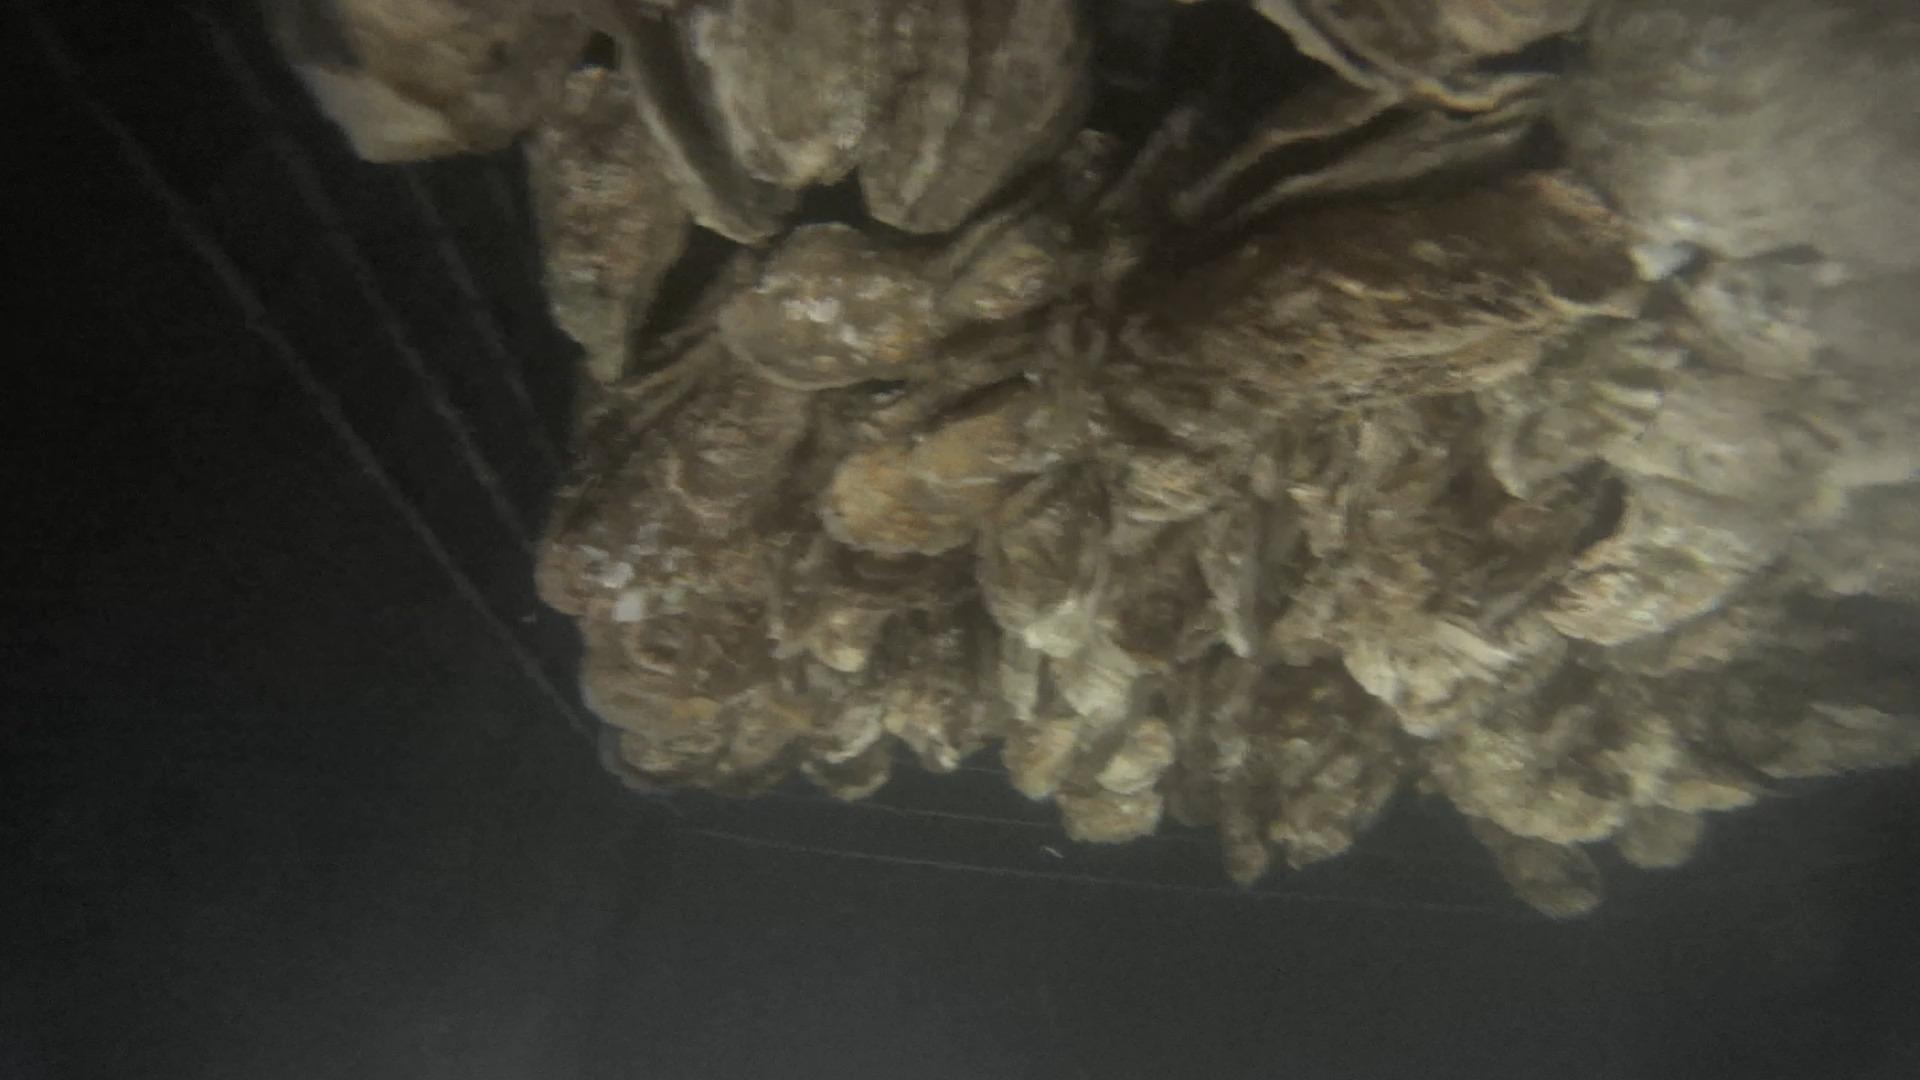3: (1170, 74, 1547, 231), (580, 0, 796, 241), (1259, 0, 1593, 109), (1451, 462, 1625, 626), (977, 463, 1108, 658), (889, 207, 1089, 334), (848, 316, 1040, 440)
Oyster- Indeterminate: (1122, 171, 1648, 418), (1560, 1, 1920, 265), (537, 339, 808, 620), (858, 0, 1087, 231), (524, 65, 690, 381), (266, 0, 584, 160), (822, 382, 1059, 554), (717, 222, 945, 386), (687, 0, 876, 186)
